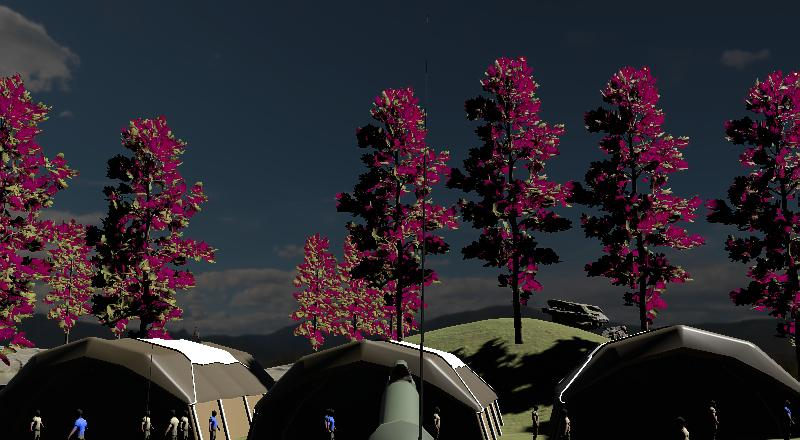Human: (64, 405, 92, 440), (321, 405, 341, 440), (28, 407, 47, 440), (528, 403, 542, 440), (207, 408, 221, 440)
